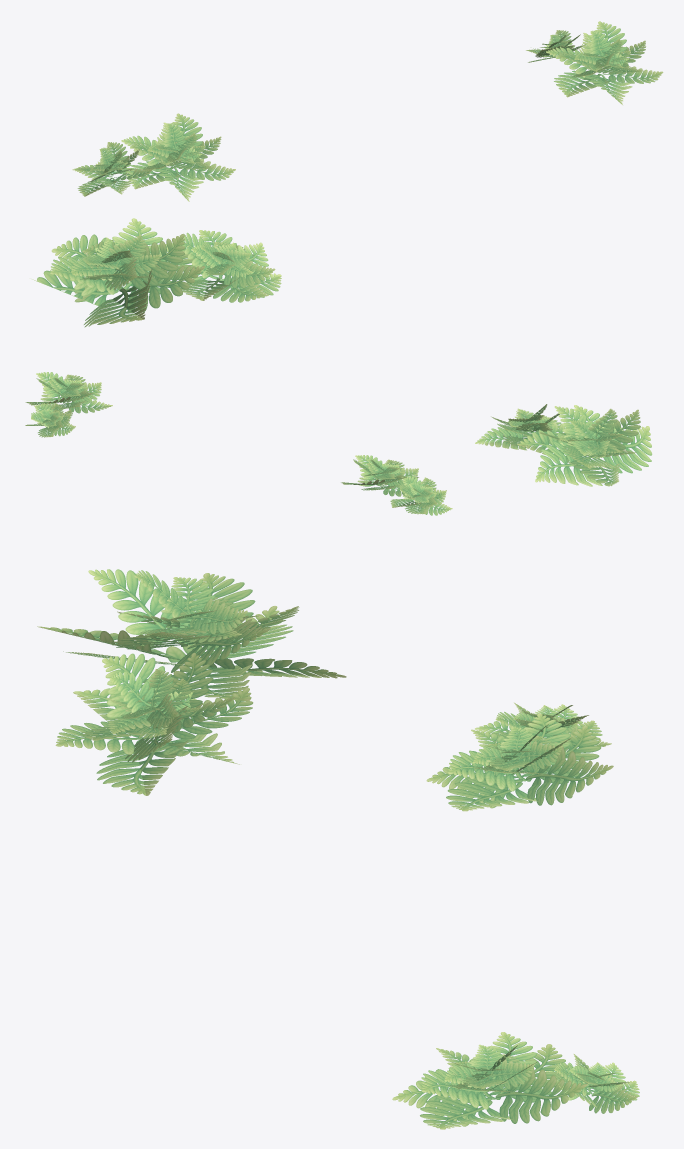
Rendered from ferns_outside.glb.
3 renders of one model, top to bottom at view 1: azimuth 30°, elevation 25°; view 2: azimuth 150°, elevation 25°; view 3: azimuth 270°, elevation 25°, orthographic. The views are drawn at different scales.
Visible parts, largest first — view 1: Ferns; view 2: Ferns; view 3: Ferns.
Part boxes in pixels (box(x1,y1,x2,y2)): Ferns: box(32, 21, 663, 327); Ferns: box(25, 372, 652, 515); Ferns: box(37, 569, 639, 1129).
Size of what is drawn, in the model's own units: 30.71 by 3.33 by 15.15.
Materials: 1 (1 with a texture image).
